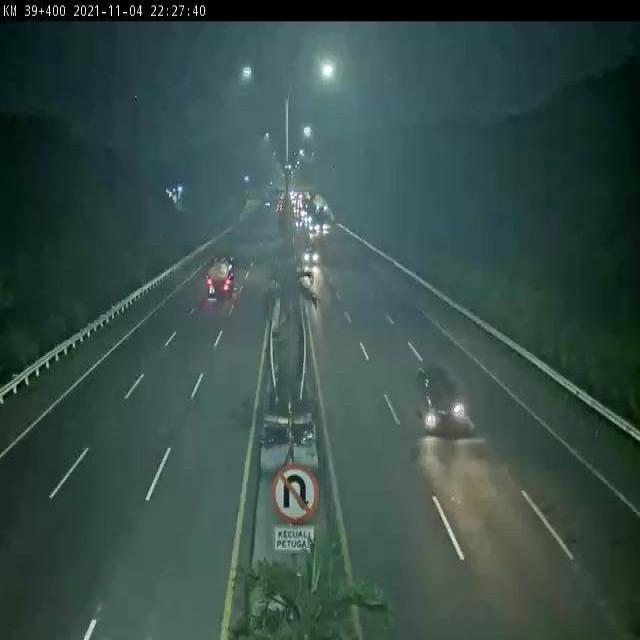car: (413, 368, 464, 433)
truck-l-: (206, 255, 236, 300)
